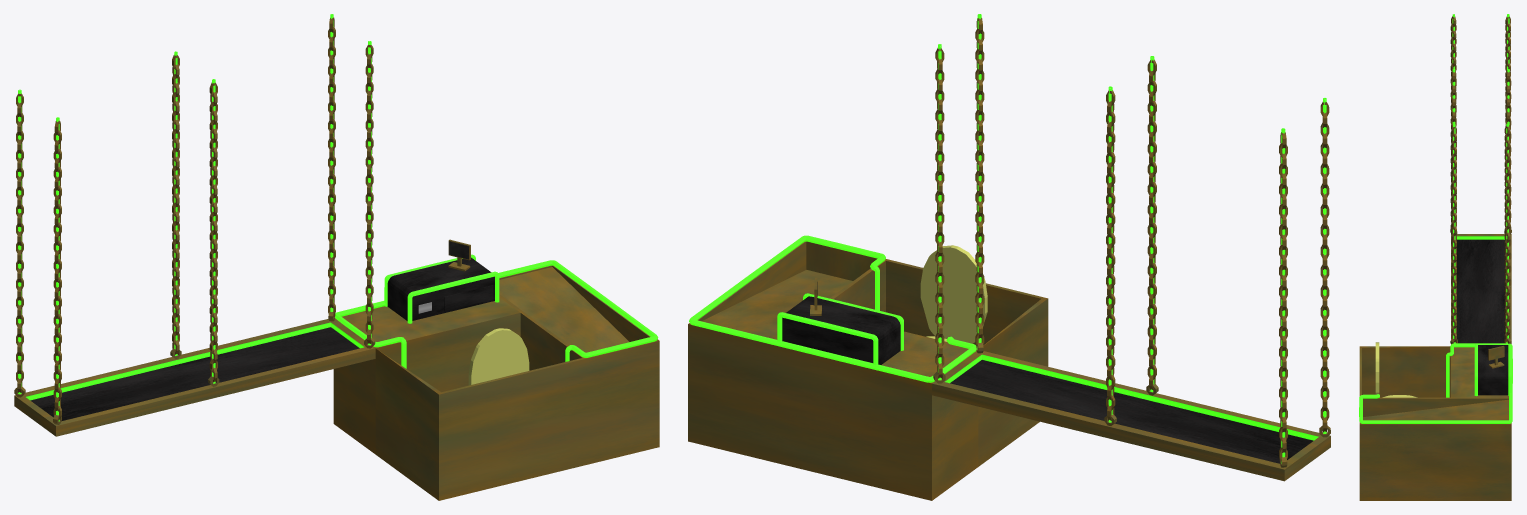
The model's file is Register_Shop.fbx.
The picture shows the model from 3 angles, left to right: view 1: azimuth 30°, elevation 25°; view 2: azimuth 150°, elevation 25°; view 3: azimuth 270°, elevation 25°; orthographic projection. The views are drawn at different scales.
Parts seen in each view (by area): view 1: Register Shop; view 2: Register Shop; view 3: Register Shop.
Part boxes in pixels (box(x1,y1,x2,y2)): Register Shop: box(14, 14, 659, 500); Register Shop: box(688, 14, 1330, 500); Register Shop: box(1359, 14, 1512, 500).
Size of the model in its own units: 437 by 317 by 149.
